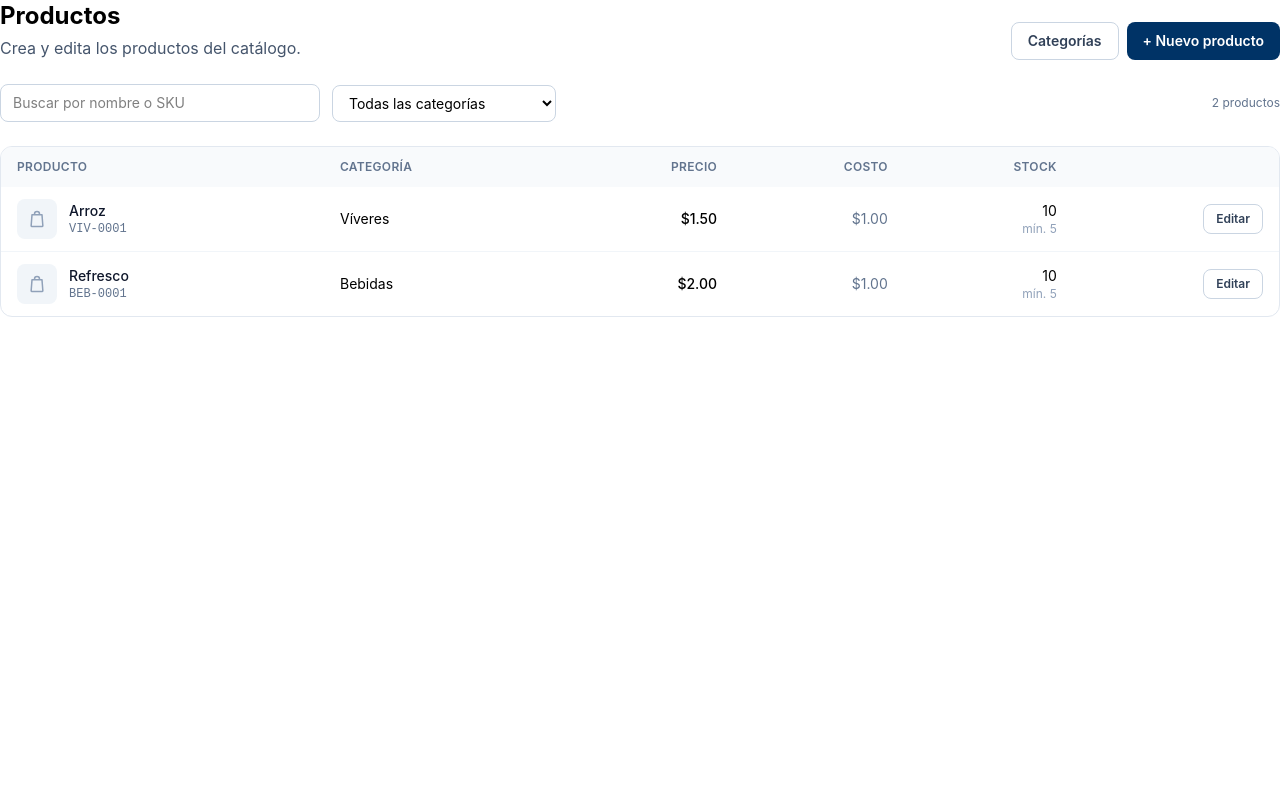
Test: Productos: creación y edición › edita un producto con sus datos cargados
Click the button "Editar" in the row of "Arroz" at (1233, 219), box [1203,204,1263,234]
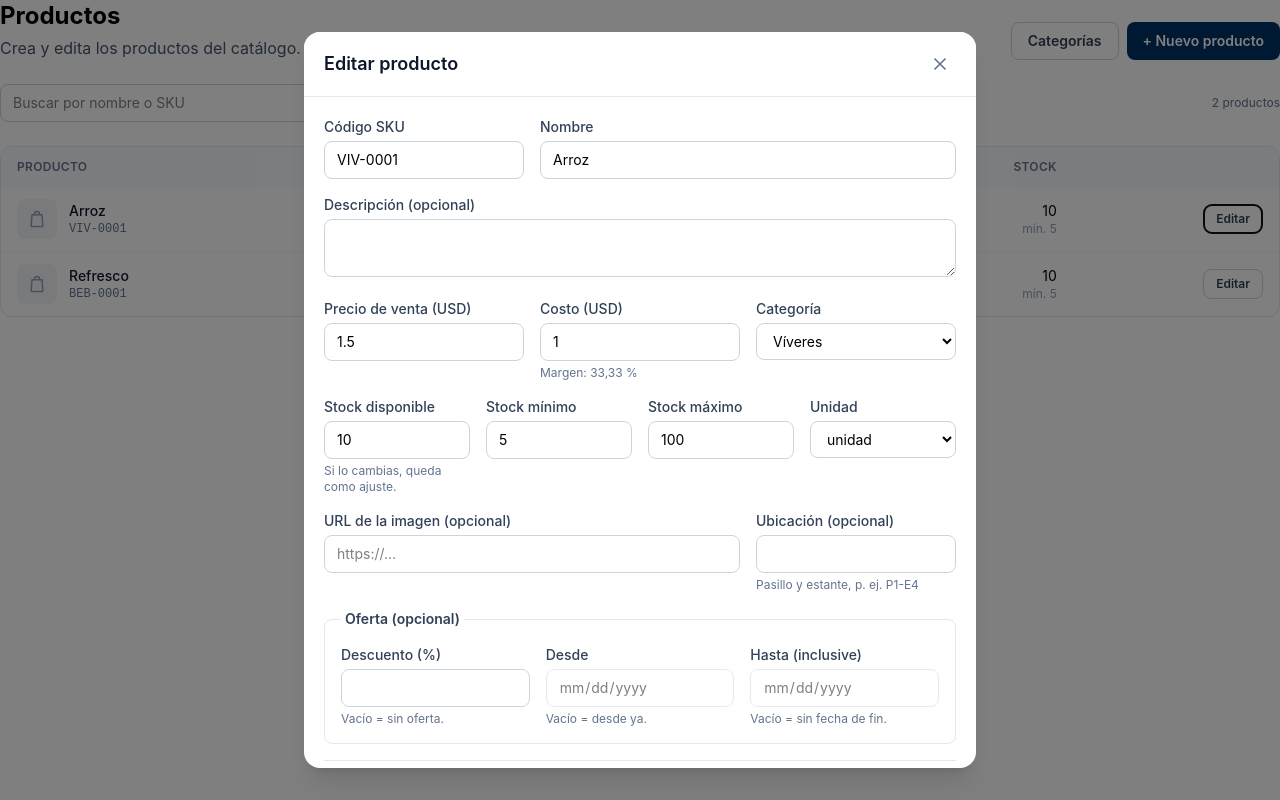
Expected: the field labelled "Código SKU" holds "VIV-0001", [324,141,524,179]
Replace the text in the field labelled "Nombre" with "Arroz integral" at (748, 160), box [540,141,956,179]
(page scrolled)
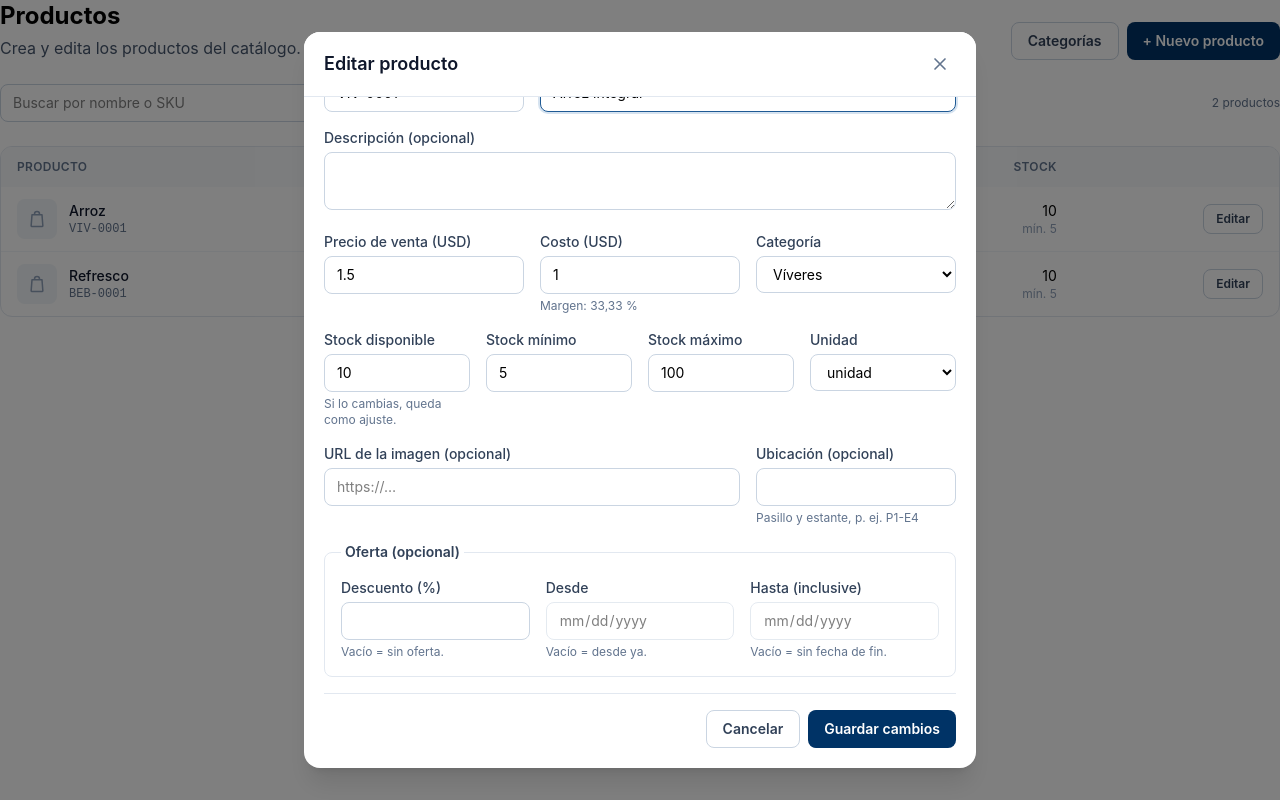
Click the button "Guardar cambios" at (882, 729), box [808,710,956,748]
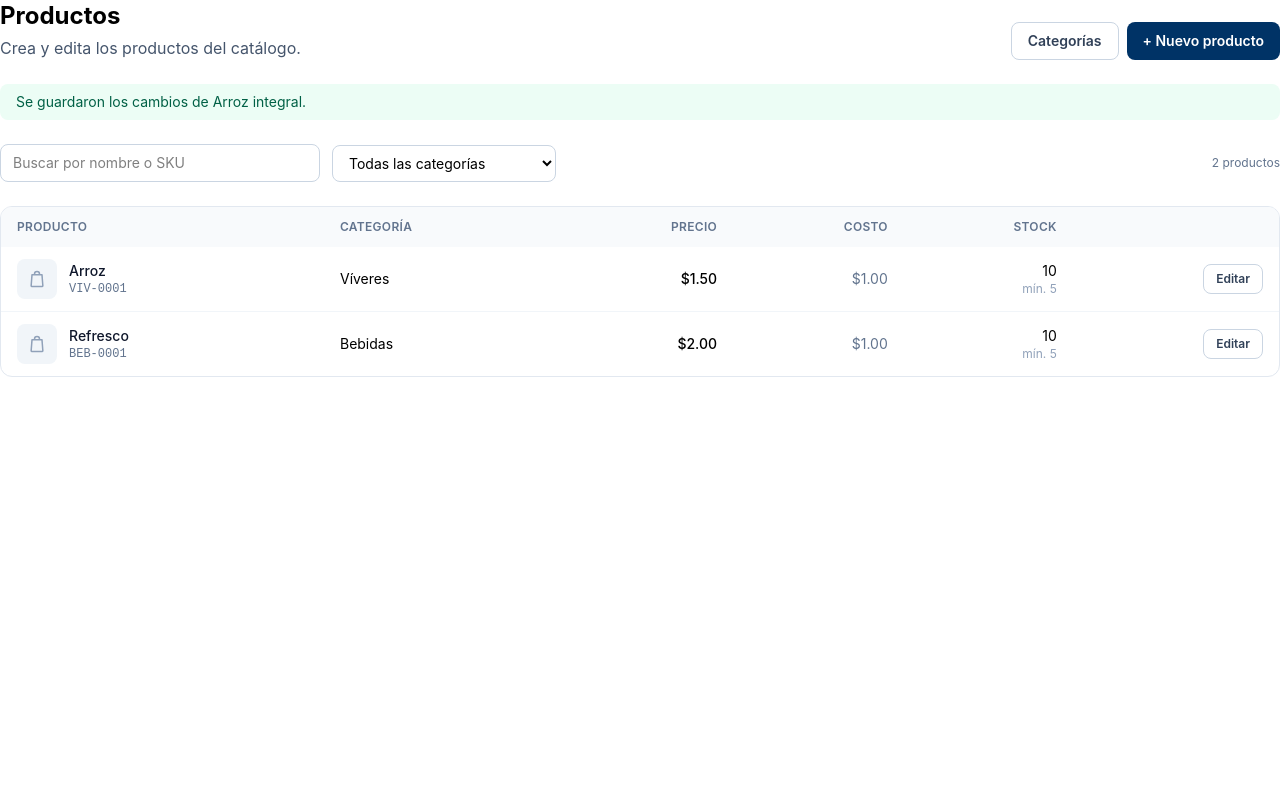
Expected: the message reads "Se guardaron los cambios de Arroz integral.", [16,93,306,110]
